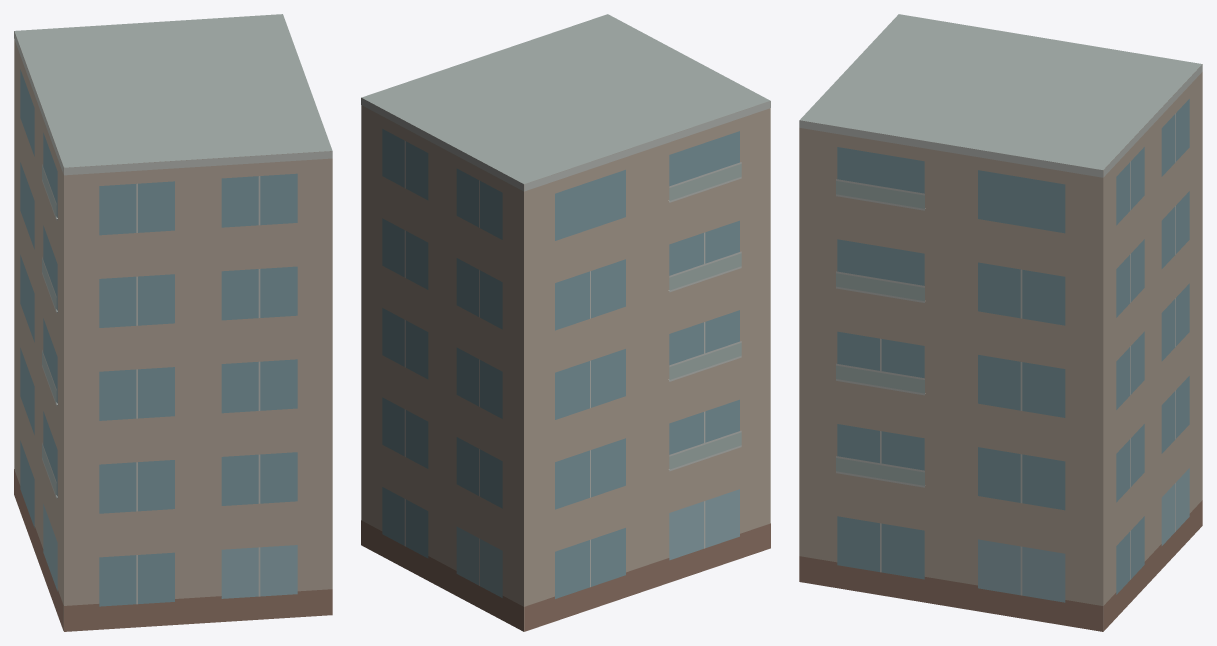
Rendered from survey-upis-32528765.glb.
3 views of the same model, side by side, from view 1: azimuth 30°, elevation 25°; view 2: azimuth 150°, elevation 25°; view 3: azimuth 270°, elevation 25° (orthographic). The views are drawn at different scales.
Parts seen in each view (by area): view 1: survey-upis-32528765.tmp; view 2: survey-upis-32528765.tmp; view 3: survey-upis-32528765.tmp.
Part boxes in pixels (left/top/right/bottom): survey-upis-32528765.tmp: left=14, top=14, right=332, bottom=631; survey-upis-32528765.tmp: left=361, top=14, right=770, bottom=631; survey-upis-32528765.tmp: left=799, top=14, right=1202, bottom=631.
Size of the model in its own units: 10.82 by 14.9 by 11.8.
